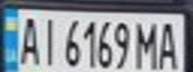1: (78, 16, 96, 69)
6: (60, 15, 81, 67), (96, 17, 115, 70)
9: (112, 18, 133, 70)
A: (154, 18, 184, 71), (15, 12, 42, 66)
I: (36, 14, 60, 68)
M: (133, 17, 163, 71)
